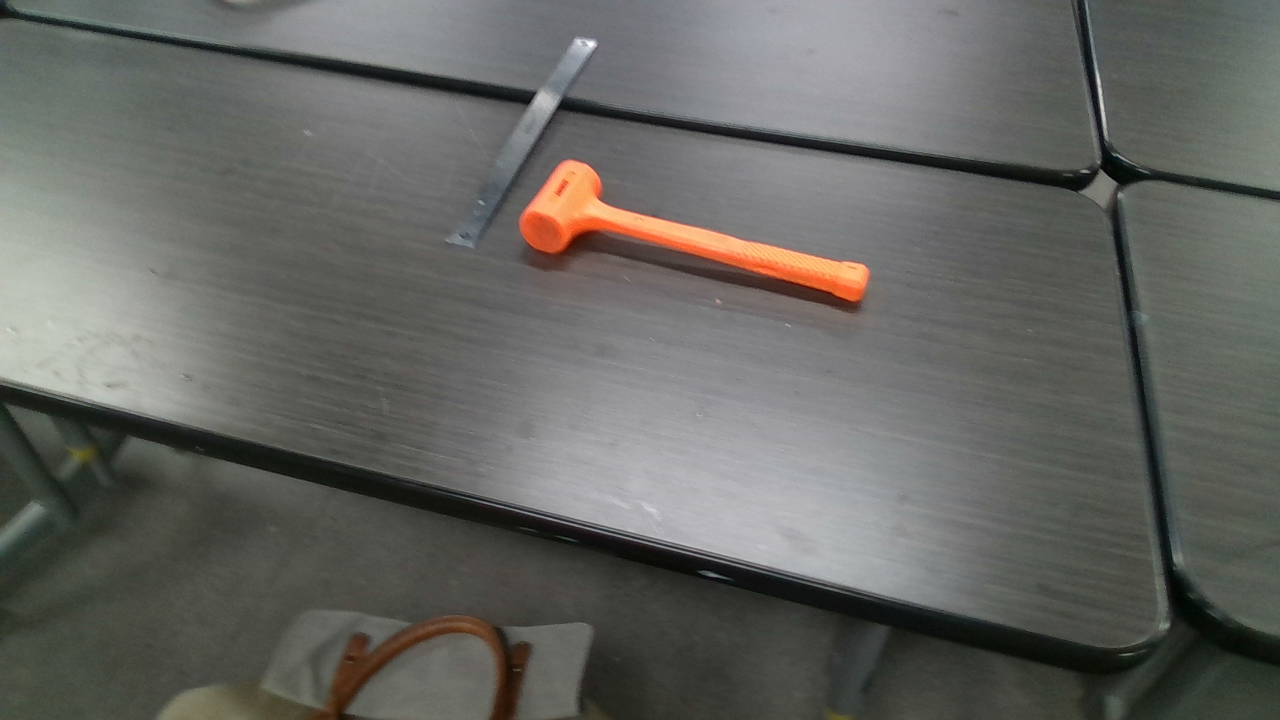Orange Hammer: (522, 160, 867, 301)
